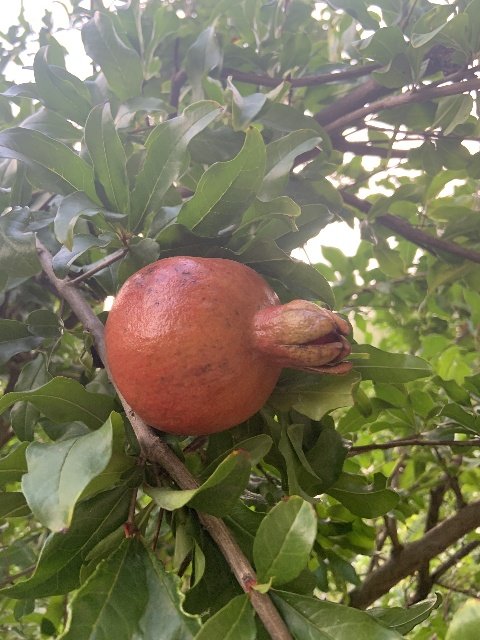ripe: (101, 256, 356, 434)
